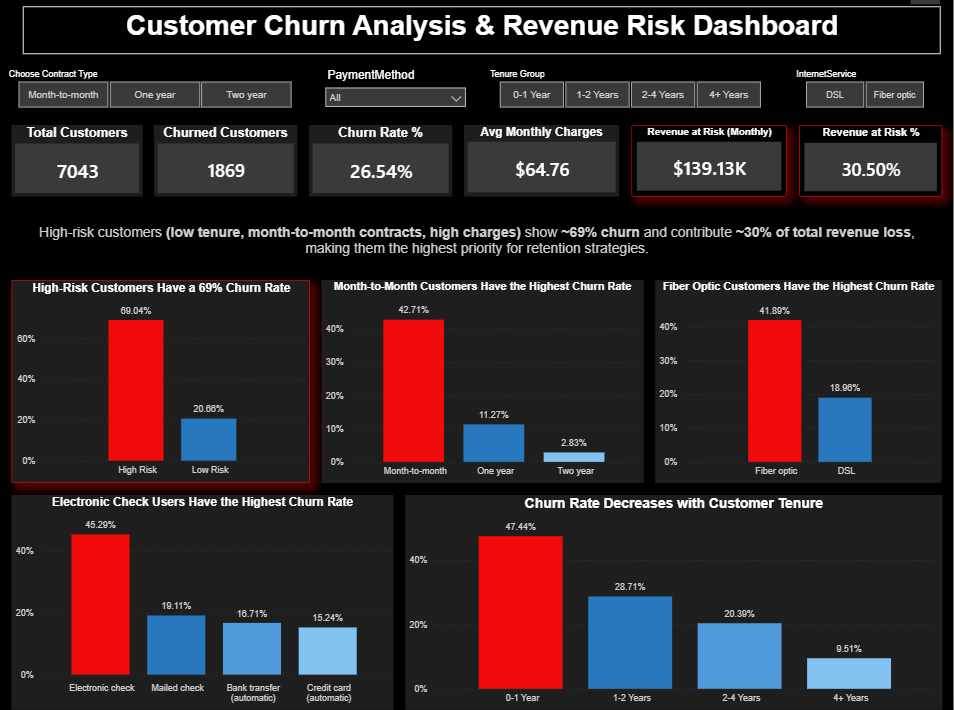

This screenshot's page, from the dashboard's own definition file:
{"tool":"powerbi","page":{"name":"Telco Customer Churn","canvas":[1280,1000],"ordinal":0},"visuals":[{"type":"cardVisual","title":"Avg Monthly Charges","fields":{"Data":["Telco-Customer-Churn.Avg Monthly Charges"]},"box":[624,208,208,96],"z":0},{"type":"cardVisual","title":"Churn Rate %","fields":{"Data":["Telco-Customer-Churn.Churn Rate %"]},"box":[416,208,192,96],"z":1000},{"type":"cardVisual","title":"Churned Customers","fields":{"Data":["Telco-Customer-Churn.Churned Customers"]},"box":[208,208,192,96],"z":2000},{"type":"cardVisual","title":"Total Customers","fields":{"Data":["Telco-Customer-Churn.Total Customers"]},"box":[16,208,176,96],"z":3000},{"type":"clusteredColumnChart","title":"Month-to-Month Customers Have the Highest Churn Rate","fields":{"Category":["Telco-Customer-Churn.Contract"],"Y":["Telco-Customer-Churn.Churn Rate %"]},"box":[432,416,432,272],"z":4000},{"type":"clusteredColumnChart","title":"Fiber Optic Customers Have the Highest Churn Rate","fields":{"Category":["Telco-Customer-Churn.InternetService"],"Y":["Telco-Customer-Churn.Churn Rate %"]},"box":[880,416,384,272],"z":5000},{"type":"clusteredColumnChart","title":"Electronic Check Users Have the Highest Churn Rate","fields":{"Category":["Telco-Customer-Churn.PaymentMethod"],"Y":["Telco-Customer-Churn.Churn Rate %"]},"box":[16,704,512,288],"z":6000},{"type":"clusteredColumnChart","title":"Churn Rate Decreases with Customer Tenure","fields":{"Category":["Telco-Customer-Churn.Tenure Group"],"Y":["Telco-Customer-Churn.Churn Rate %"]},"box":[544,704,720,288],"z":7000},{"type":"textbox","box":[352,48,656,64],"z":8000},{"type":"slicer","fields":{"Values":["Telco-Customer-Churn.Contract"]},"box":[0,128,416,64],"z":9000},{"type":"slicer","fields":{"Values":["Telco-Customer-Churn.PaymentMethod"]},"box":[426.7,128,208,64],"z":10000},{"type":"clusteredColumnChart","title":"High-Risk Customers Have a 69% Churn Rate","fields":{"Category":["Telco-Customer-Churn.Risk Segment"],"Y":["Telco-Customer-Churn.Churn Rate %"]},"box":[16,416,400,272],"z":11000},{"type":"cardVisual","title":"Revenue at Risk (Monthly)","fields":{"Data":["Telco-Customer-Churn.Revenue at Risk"]},"box":[848,208,208,96],"z":12000},{"type":"slicer","fields":{"Values":["Telco-Customer-Churn.InternetService"]},"box":[1056,128,208,64],"z":13000},{"type":"slicer","fields":{"Values":["Telco-Customer-Churn.Tenure Group"]},"box":[645.3,128,400,64],"z":14000},{"type":"cardVisual","title":"Revenue at Risk %","fields":{"Data":["Telco-Customer-Churn.Revenue at Risk %"]},"box":[1072,208,192,96],"z":15000},{"type":"textbox","box":[16,336,1248,64],"z":16000}]}

Visuals, with their boxes in screenshot pixels (x1, y1, x2, y2):
"Avg Monthly Charges" cardVisual: [467,134,624,207]
"Churn Rate %" cardVisual: [311,134,455,207]
"Churned Customers" cardVisual: [154,134,299,207]
"Total Customers" cardVisual: [10,134,142,207]
"Month-to-Month Customers Have the Highest Churn Rate" clusteredColumnChart: [323,291,648,496]
"Fiber Optic Customers Have the Highest Churn Rate" clusteredColumnChart: [660,291,950,496]
"Electronic Check Users Have the Highest Churn Rate" clusteredColumnChart: [10,508,395,709]
"Churn Rate Decreases with Customer Tenure" clusteredColumnChart: [407,508,950,709]
textbox: [263,14,757,62]
slicer - Telco-Customer-Churn.Contract: [0,74,311,122]
slicer - Telco-Customer-Churn.PaymentMethod: [319,74,476,122]
"High-Risk Customers Have a 69% Churn Rate" clusteredColumnChart: [10,291,311,496]
"Revenue at Risk (Monthly)" cardVisual: [636,134,793,207]
slicer - Telco-Customer-Churn.InternetService: [793,74,950,122]
slicer - Telco-Customer-Churn.Tenure Group: [484,74,785,122]
"Revenue at Risk %" cardVisual: [805,134,950,207]
textbox: [10,231,950,279]
